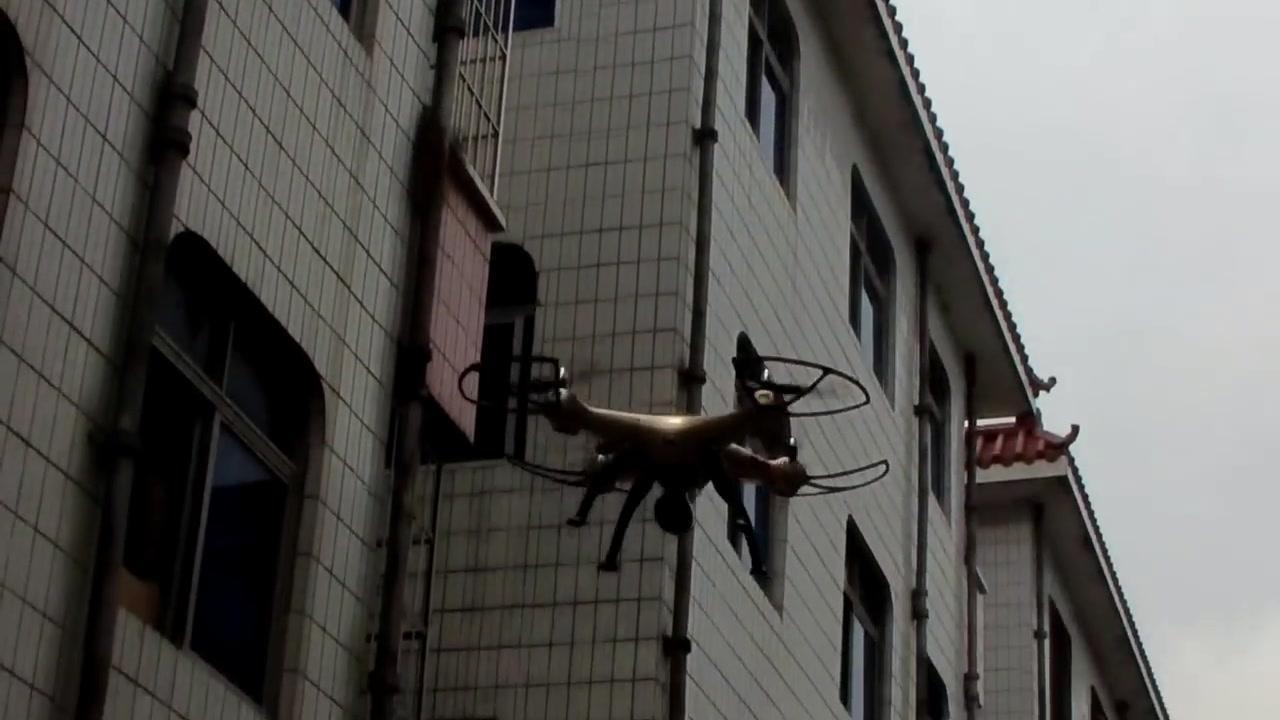UAV: (454, 328, 891, 580)
